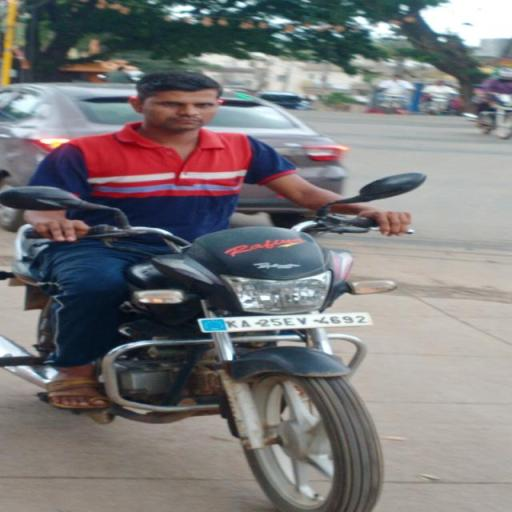bike: (9, 69, 429, 512)
numberplate: (198, 300, 376, 337)
withouthelmet: (136, 73, 220, 131)
